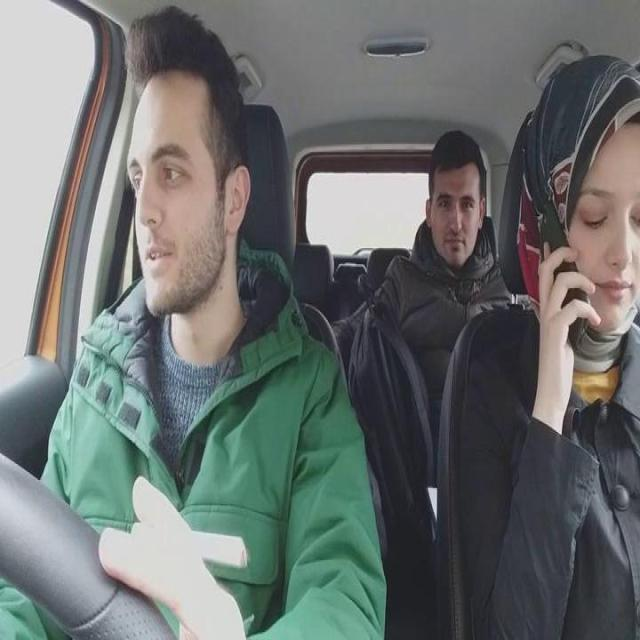phone: (532, 196, 587, 350)
